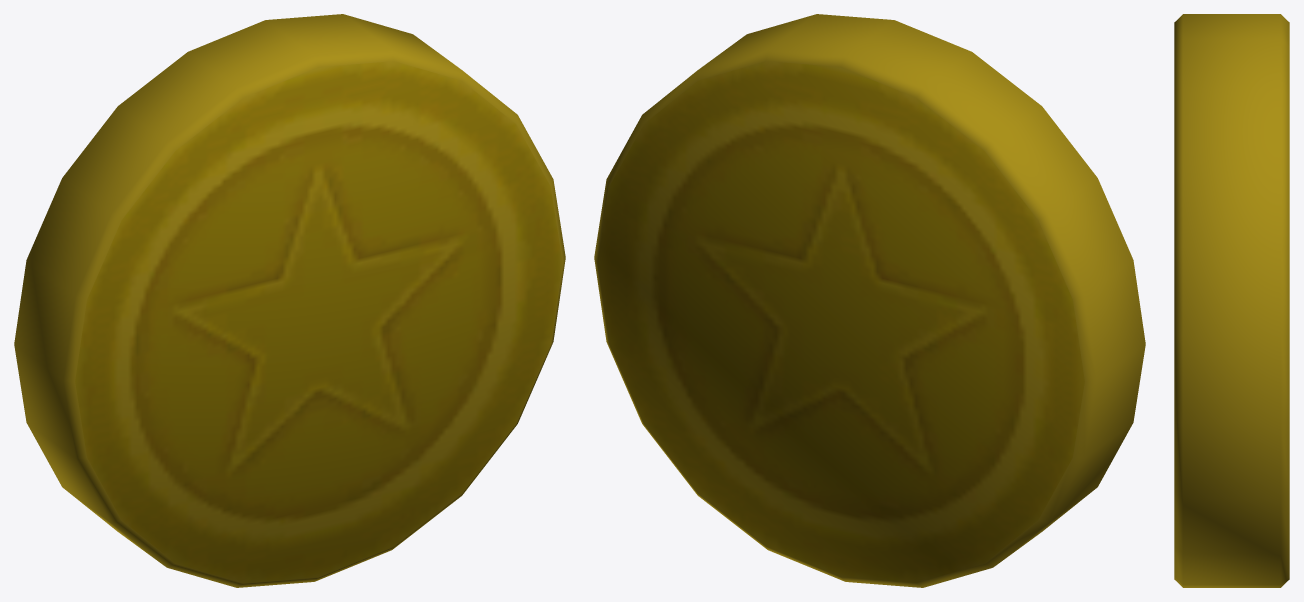
Rendered from coin.FBX.
The picture shows the model from 3 angles, left to right: view 1: azimuth 30°, elevation 25°; view 2: azimuth 150°, elevation 25°; view 3: azimuth 270°, elevation 25°; orthographic projection.
Visible parts, largest first — view 1: default; view 2: default; view 3: default.
Boxes of the visible parts, x1=… form: default: x1=14, y1=14, x2=565, y2=587; default: x1=594, y1=14, x2=1145, y2=587; default: x1=1174, y1=14, x2=1289, y2=587.
Bounding box in the file's own units: 18.63 × 3.71 × 18.63.
1 material, 1 textured.
